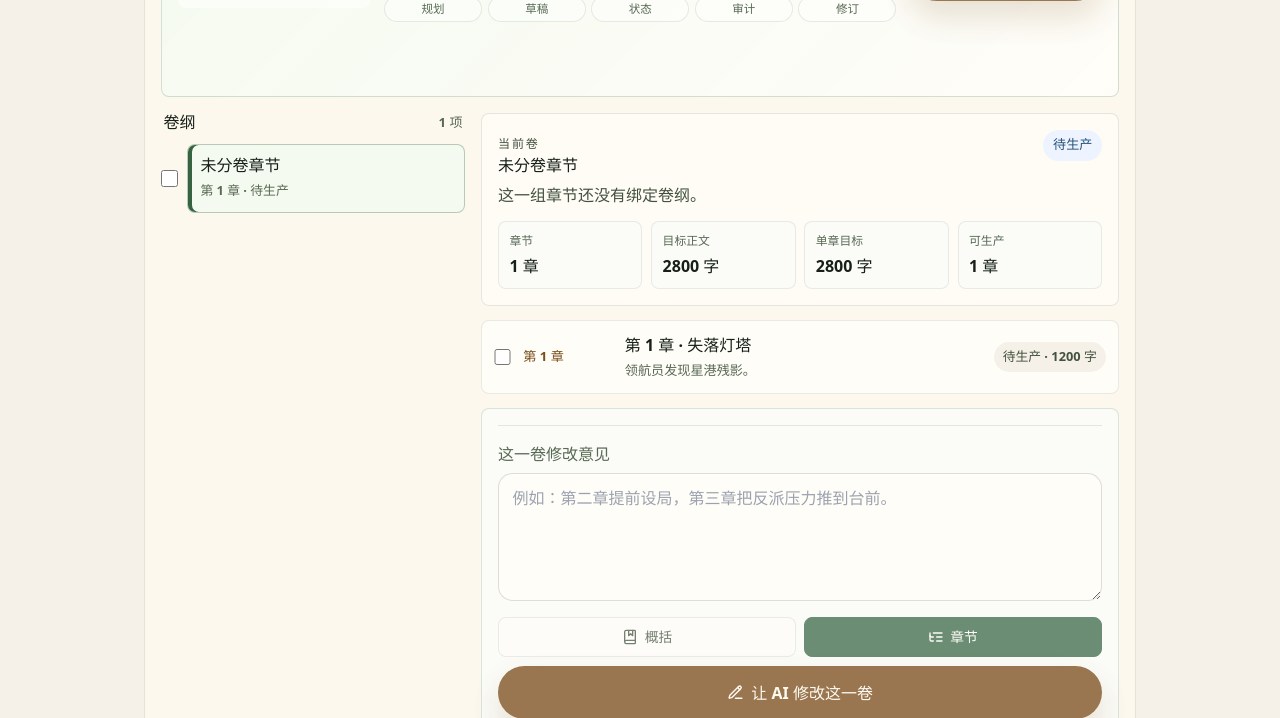
shows animated waiting state while batch production is pending
The width and height of the screenshot is (1280, 718).
(page scrolled)
Click the checkbox named "选择第 1 章 · 失落灯塔" at (503, 357), box [494,349,511,365]
(page scrolled)
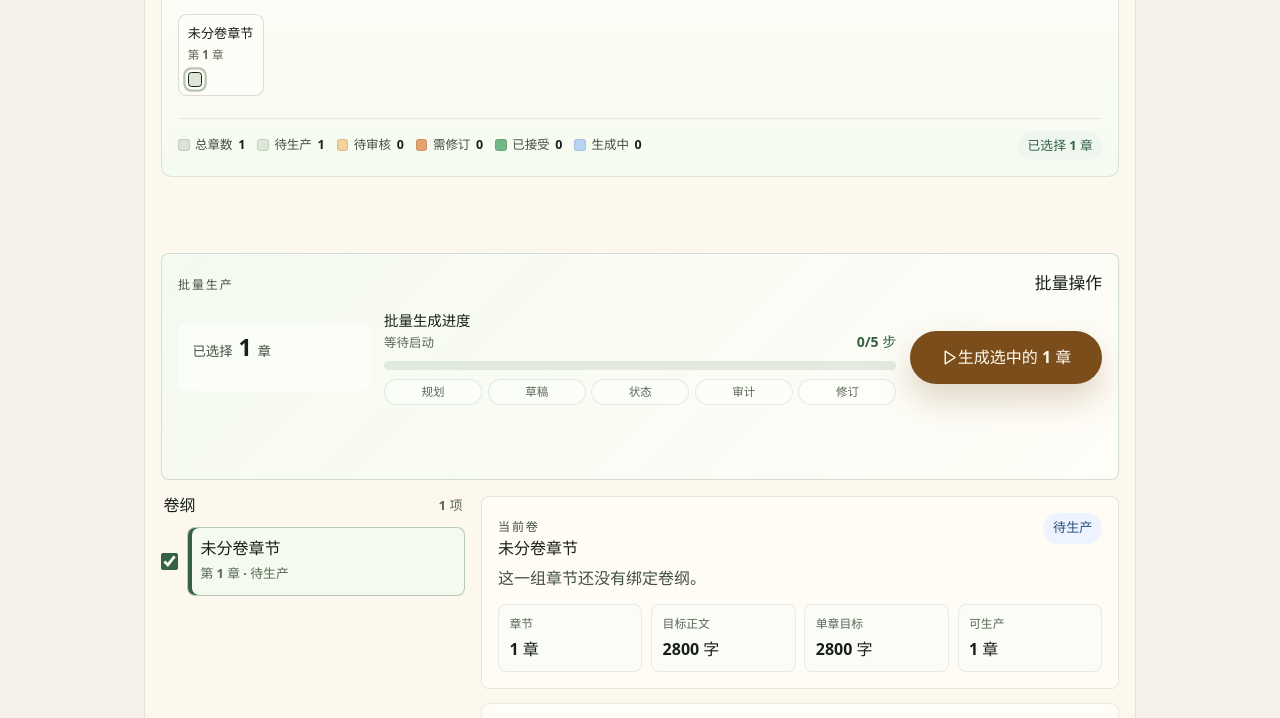
Click the button "生成选中的 1 章" at (1006, 357), box [910,331,1102,384]
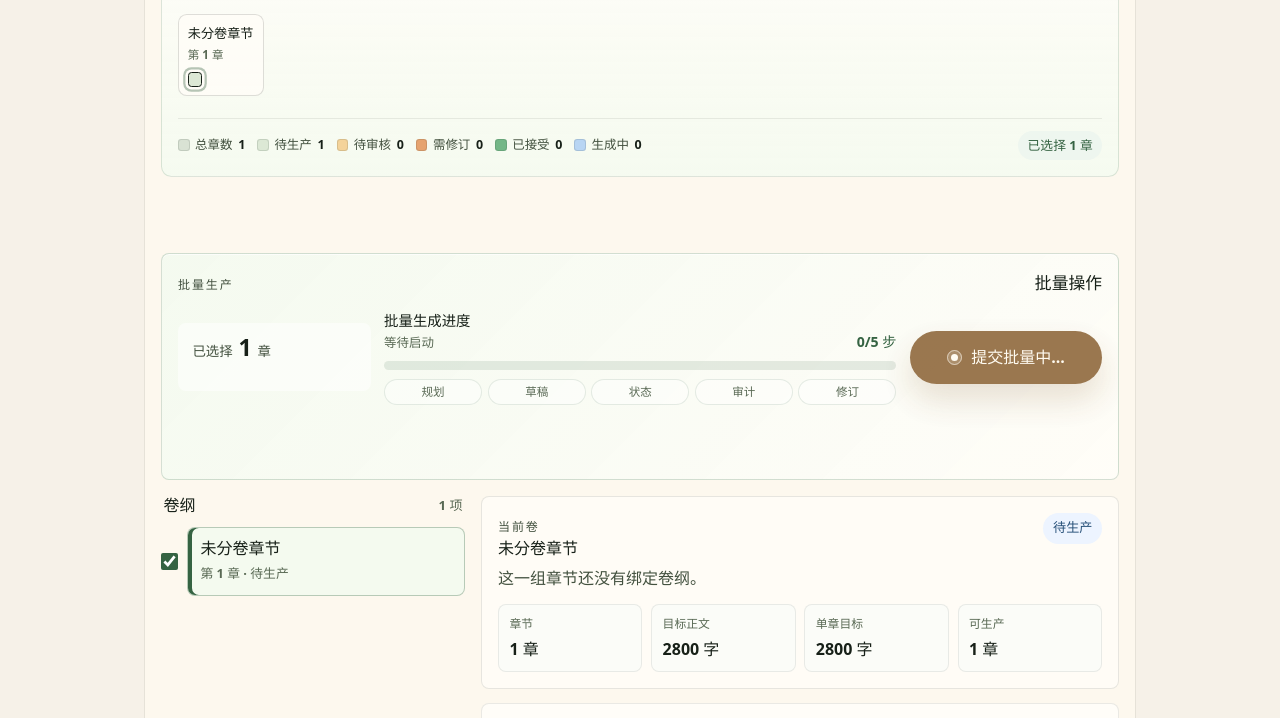
Result: the element with test id "ai-waiting-indicator" reads "提交批量中..." at [971,346,1065,368]
Result: the button "提交批量中..." is disabled at [910,331,1102,384]
